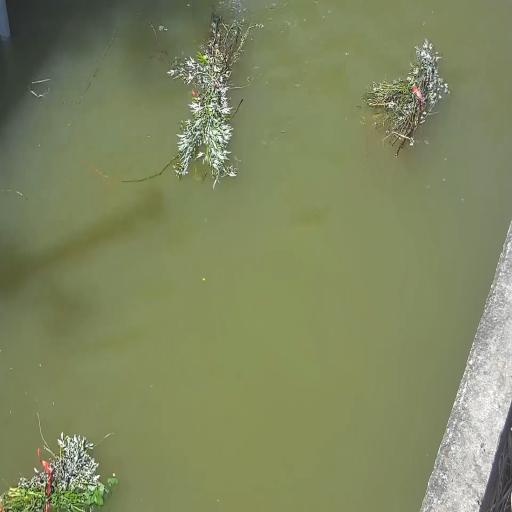twig: (86, 4, 258, 190), (0, 419, 121, 512), (360, 40, 448, 160)
